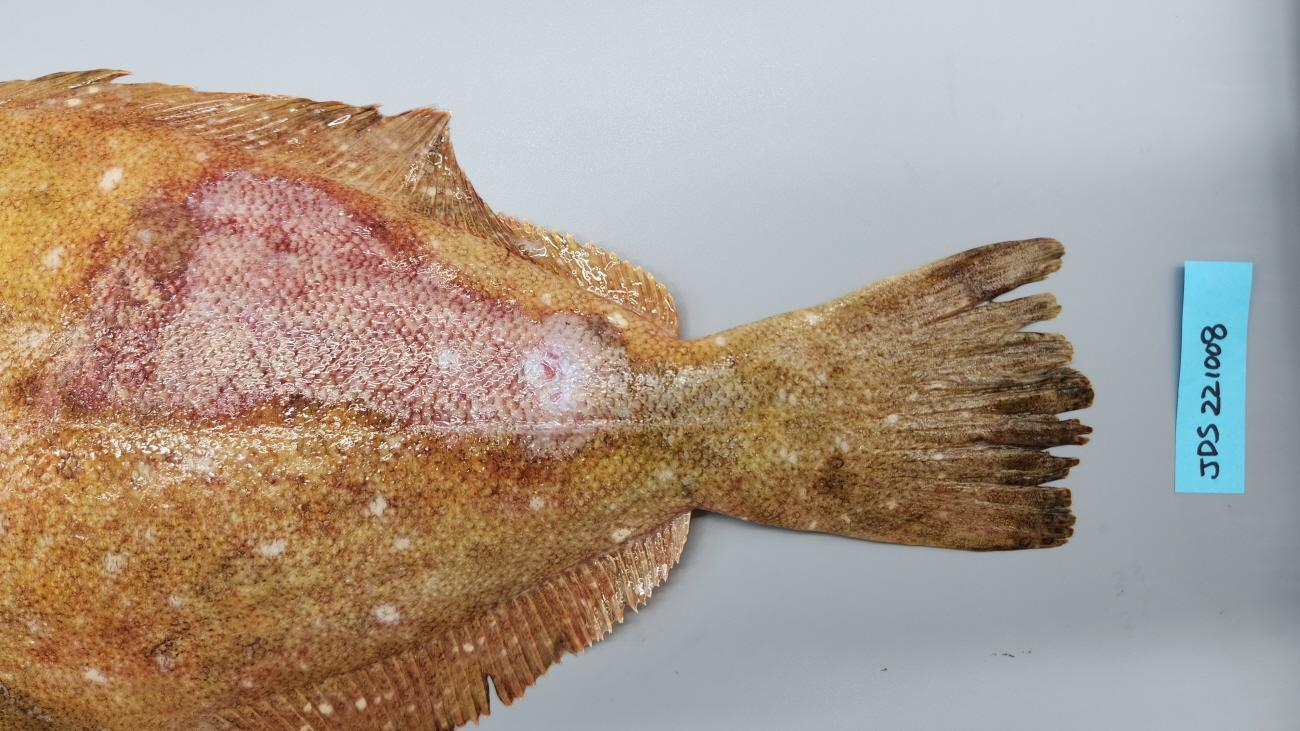VIDYU: (0, 150, 630, 461)
